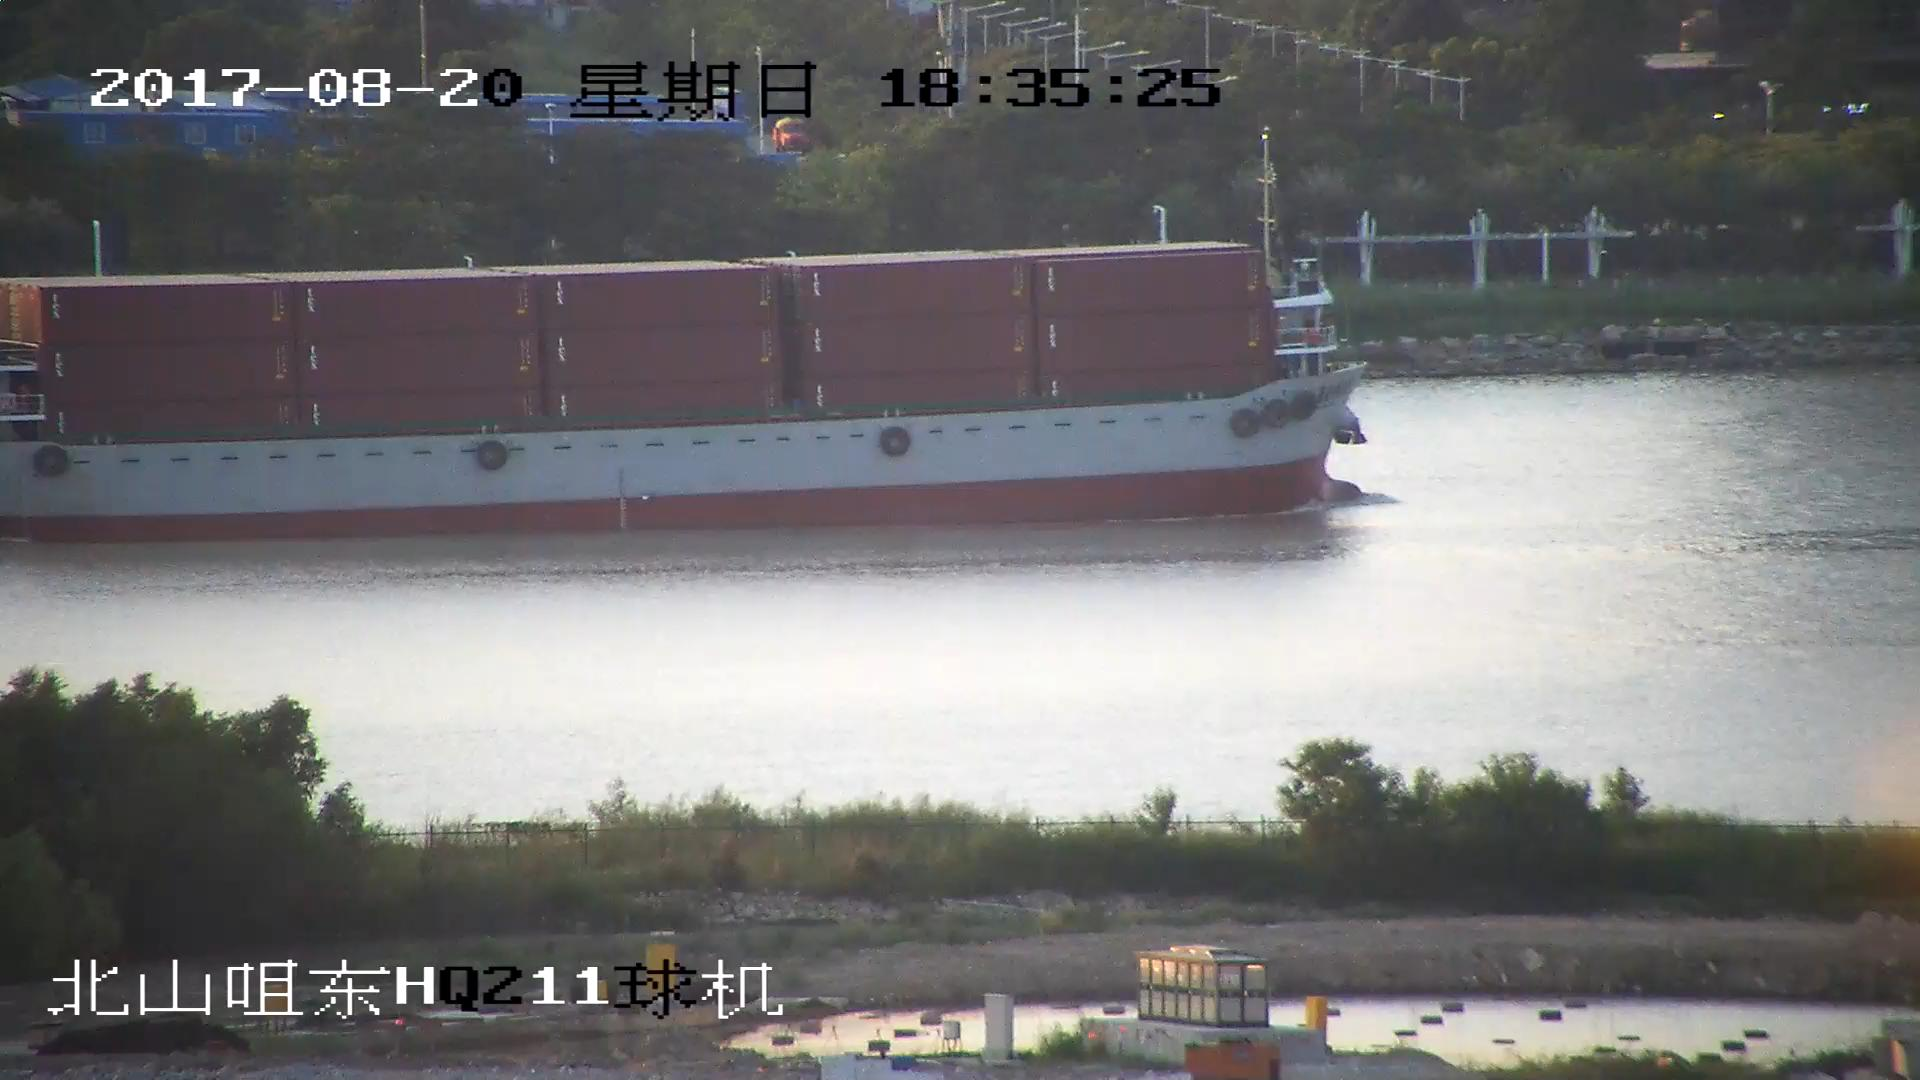container ship: (1, 150, 1378, 542)
